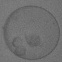small: (27, 36, 41, 45), (14, 48, 27, 56), (12, 38, 23, 47)
